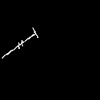treble_crochet: (2, 29, 37, 57)
